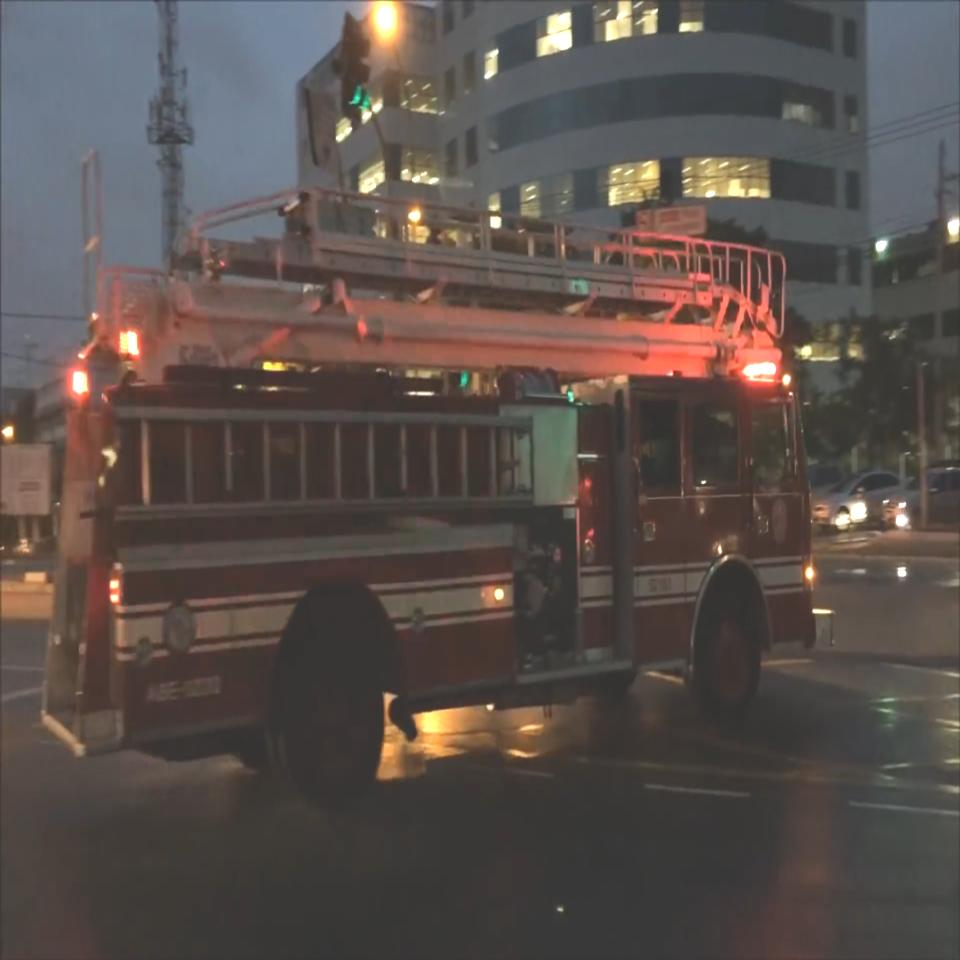bombeiro: (38, 191, 837, 802)
